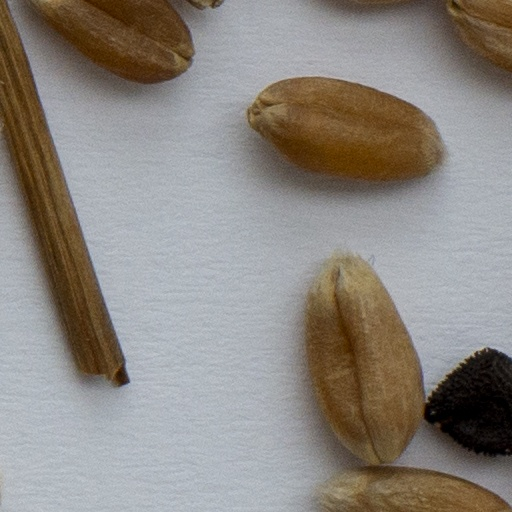Peel-poly: (0, 0, 127, 387)
